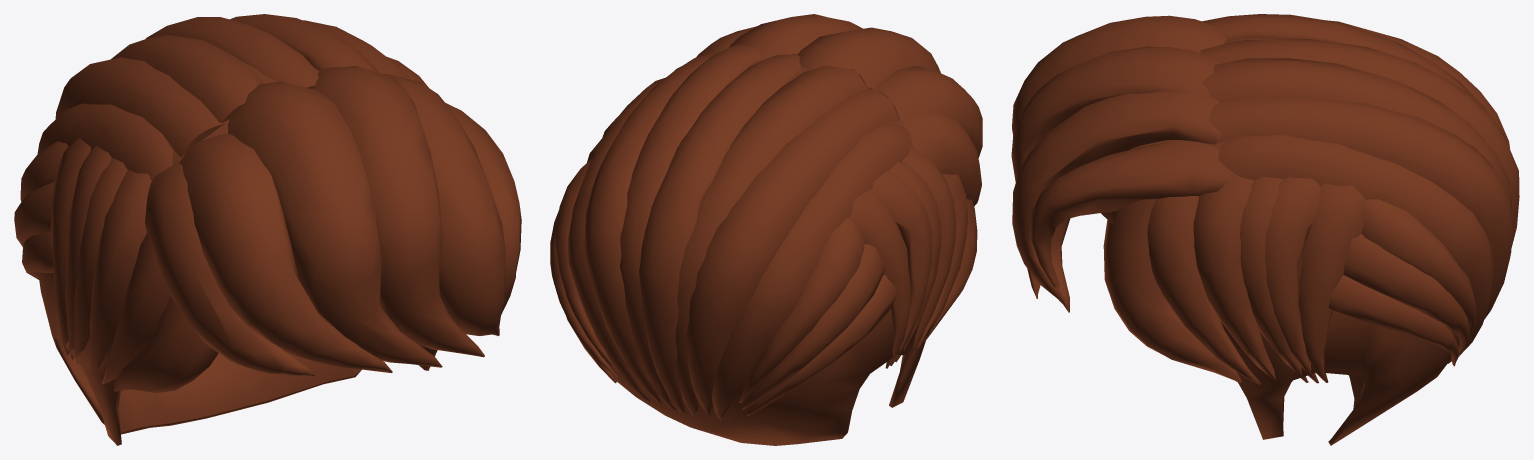
File: hair-7-8b91df4b.glb
The picture shows the model from 3 angles, left to right: view 1: azimuth 30°, elevation 25°; view 2: azimuth 150°, elevation 25°; view 3: azimuth 270°, elevation 25°; orthographic projection. The views are drawn at different scales.
Visible parts, largest first — view 1: hair_7.001; view 2: hair_7.001; view 3: hair_7.001.
Boxes of the visible parts, x1,y1,x2,y2 form: hair_7.001: (14,14,521,445); hair_7.001: (550,14,982,445); hair_7.001: (1011,14,1519,445).
Size of the model in its own units: 1.64 by 1.63 by 2.02.
